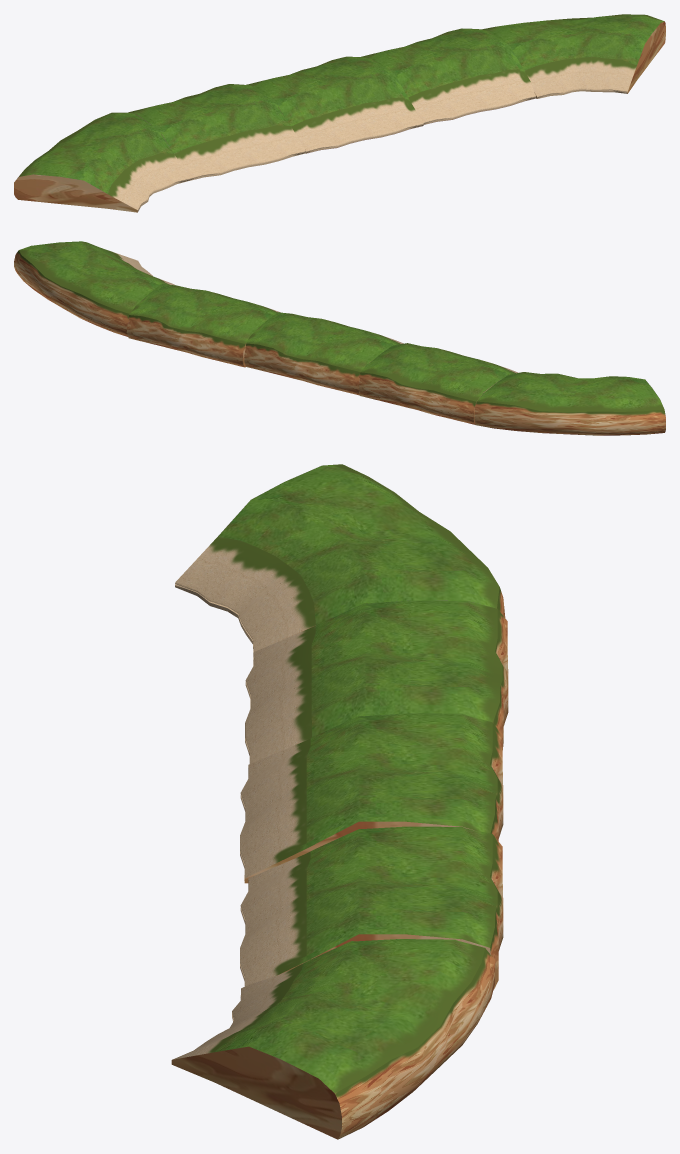
Rendered from SueloHierba.FBX.
3 renders of one model, top to bottom at view 1: azimuth 30°, elevation 25°; view 2: azimuth 150°, elevation 25°; view 3: azimuth 270°, elevation 25°, orthographic. The views are drawn at different scales.
Visible parts, largest first — view 1: Box004, Box005, Box001, Box002, Box008; view 2: Box004, Box005, Box001, Box008, Box002; view 3: Box005, Box004, Box001, Box002, Box008.
Boxes of the visible parts, x1,y1,x2,y2 form: Box004: (14,112,189,212); Box005: (482,14,665,98); Box001: (246,56,423,153); Box002: (128,84,305,180); Box008: (361,28,536,124); Box004: (474,372,665,435); Box005: (14,241,175,336); Box001: (244,312,403,395); Box008: (127,284,280,367); Box002: (359,343,518,424); Box005: (171,939,495,1139); Box004: (175,464,505,652); Box001: (240,713,503,883); Box002: (245,600,508,763); Box008: (240,826,503,989).
Bounding box in the file's own units: 3518 × 181 × 789.
